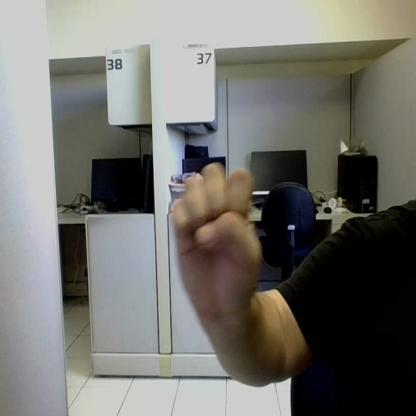S: (173, 164, 261, 304)
